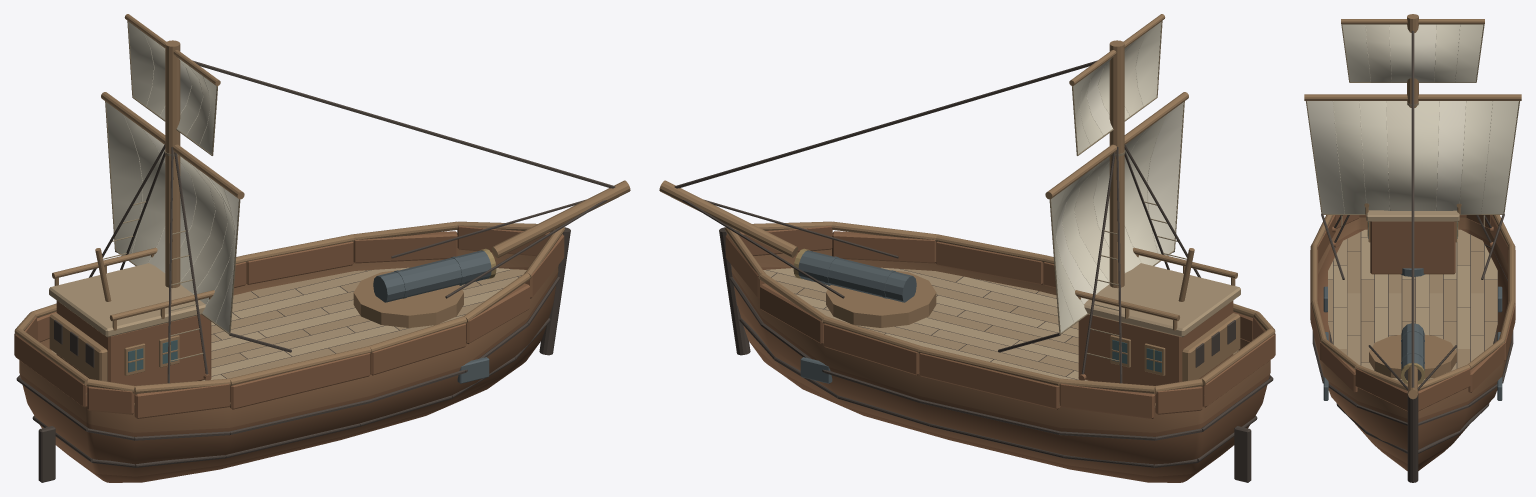
File: warship.glb
The picture shows the model from 3 angles, left to right: view 1: azimuth 30°, elevation 25°; view 2: azimuth 150°, elevation 25°; view 3: azimuth 270°, elevation 25°; orthographic projection. The views are drawn at different scales.
Visible parts, largest first — view 1: Hull, Gun; view 2: Hull, Gun; view 3: Hull, Gun.
Boxes of the visible parts, x1,y1,x2,y2 form: Hull: (14, 14, 630, 482); Gun: (353, 248, 496, 328); Hull: (659, 14, 1275, 482); Gun: (793, 248, 936, 327); Hull: (1304, 14, 1521, 482); Gun: (1369, 323, 1456, 384).
Bounding box in the file's own units: 197 × 130 × 79.2.
